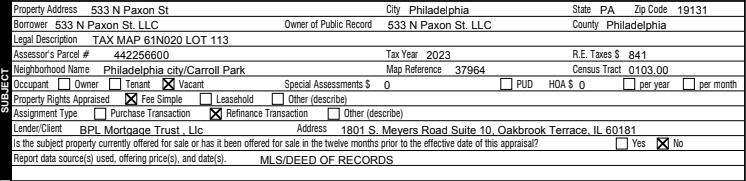checked: (655, 135, 671, 151), (161, 76, 176, 93), (209, 106, 223, 122), (124, 92, 138, 107)
unchecked: (621, 76, 637, 93), (681, 77, 697, 93), (326, 106, 342, 122), (614, 136, 630, 152), (108, 75, 123, 92), (56, 76, 72, 91), (93, 106, 108, 122), (270, 92, 286, 107), (499, 76, 514, 92), (199, 92, 213, 106)
